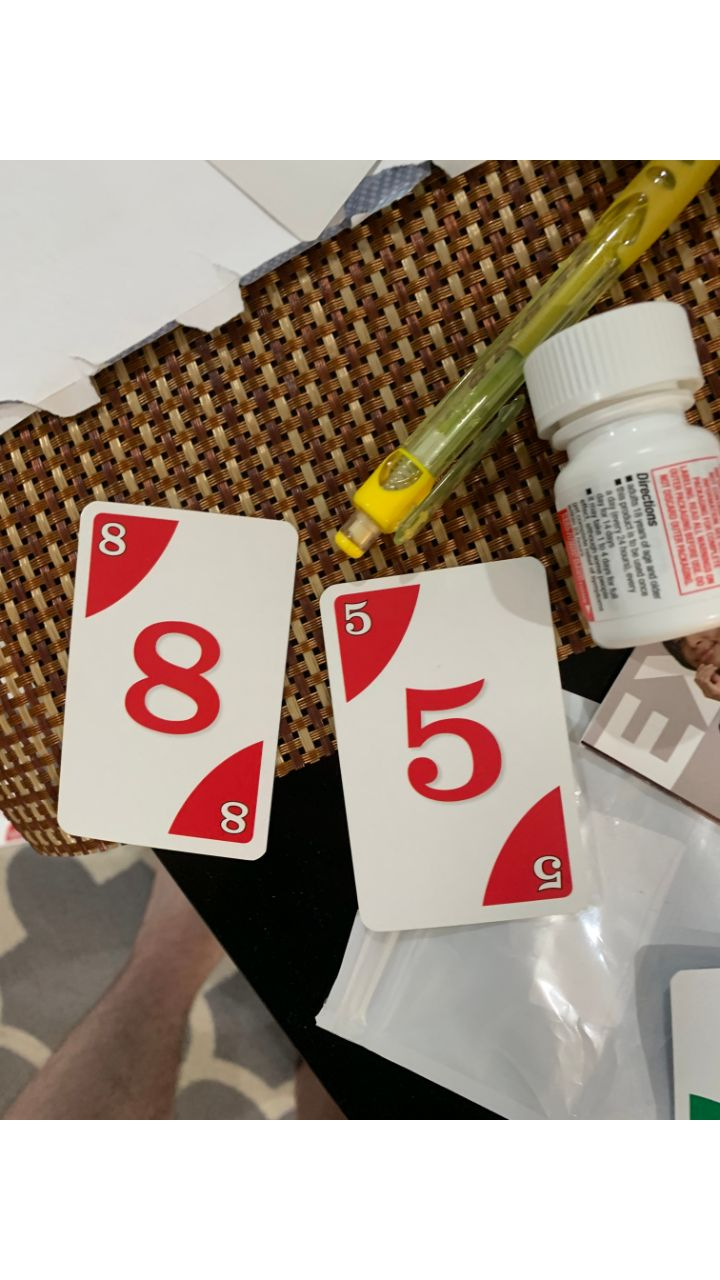eight: (52, 493, 302, 865)
five: (319, 555, 596, 939)
